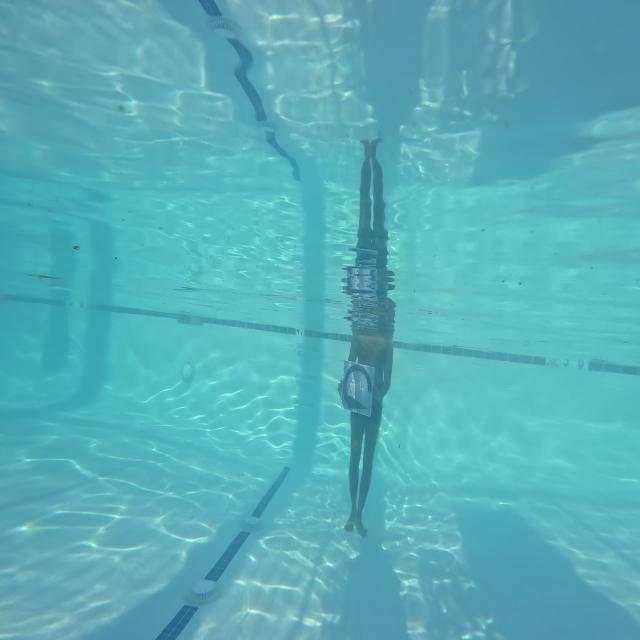blue_side: (342, 358, 378, 416)
